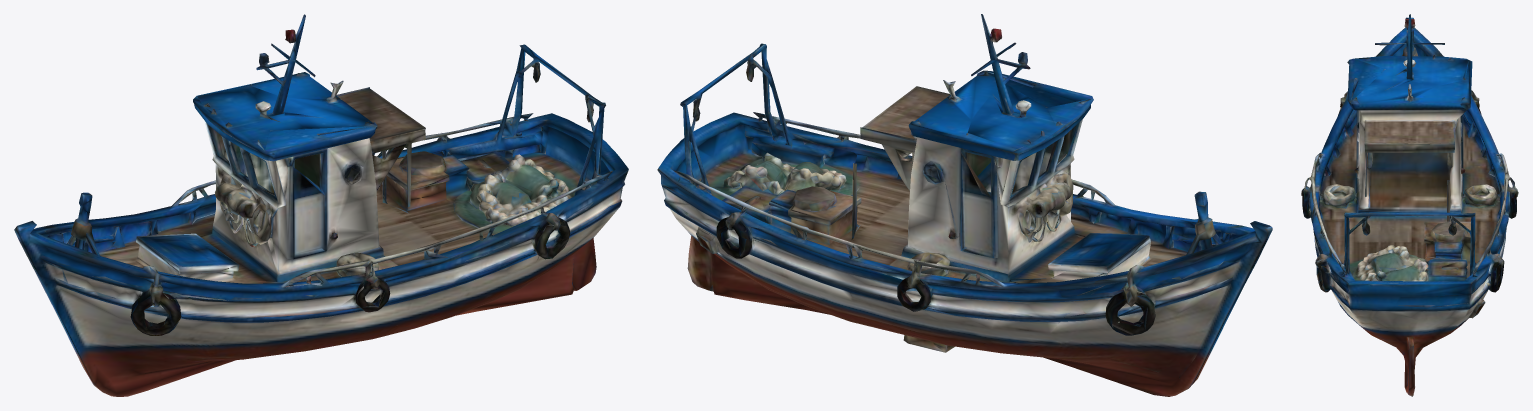
Rendered from kit_trabzon_fishing_boat.glb.
3 renders of one model, left to right at view 1: azimuth 30°, elevation 25°; view 2: azimuth 150°, elevation 25°; view 3: azimuth 270°, elevation 25°, orthographic. The views are drawn at different scales.
Visible parts, largest first — view 1: Mesh1.0; view 2: Mesh1.0; view 3: Mesh1.0.
Boxes of the visible parts, box(x1,y1,x2,y2) form: Mesh1.0: box(14, 14, 628, 396); Mesh1.0: box(657, 14, 1272, 396); Mesh1.0: box(1301, 14, 1518, 396).
Bounding box in the file's own units: 8 × 4.5 × 3.22.
1 material, 1 textured.
